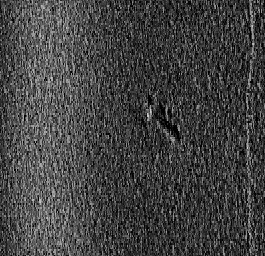mine: (145, 94, 184, 150)
